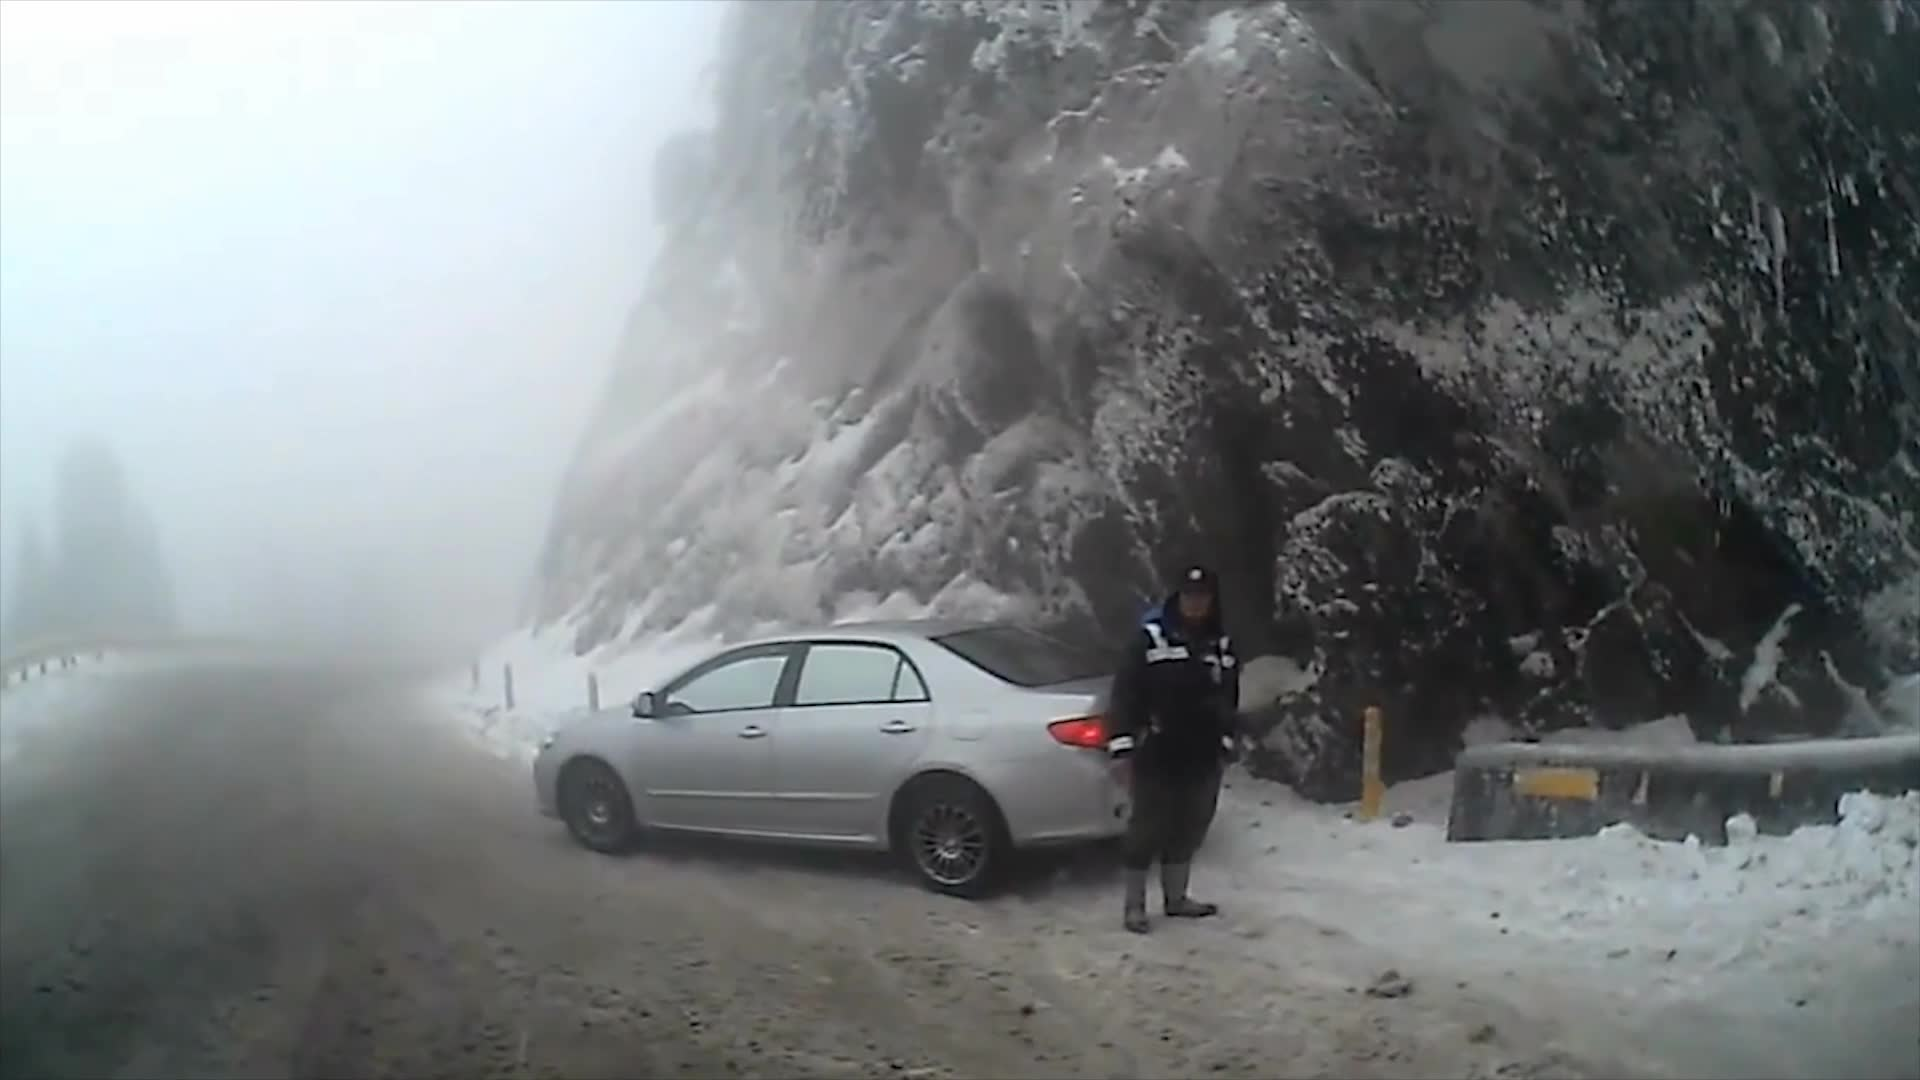pedestrian: (1103, 569, 1239, 938)
vehicle: (530, 618, 1229, 901)
